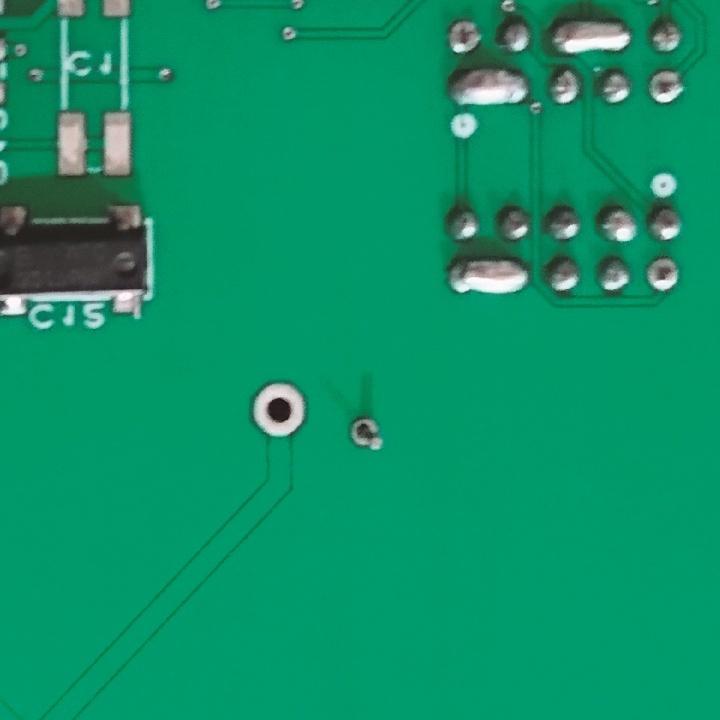F: (250, 378, 309, 440), (644, 252, 682, 296), (347, 412, 384, 457), (444, 18, 484, 55), (648, 66, 684, 107)
P: (444, 254, 530, 303), (447, 67, 530, 110), (548, 18, 632, 60)
